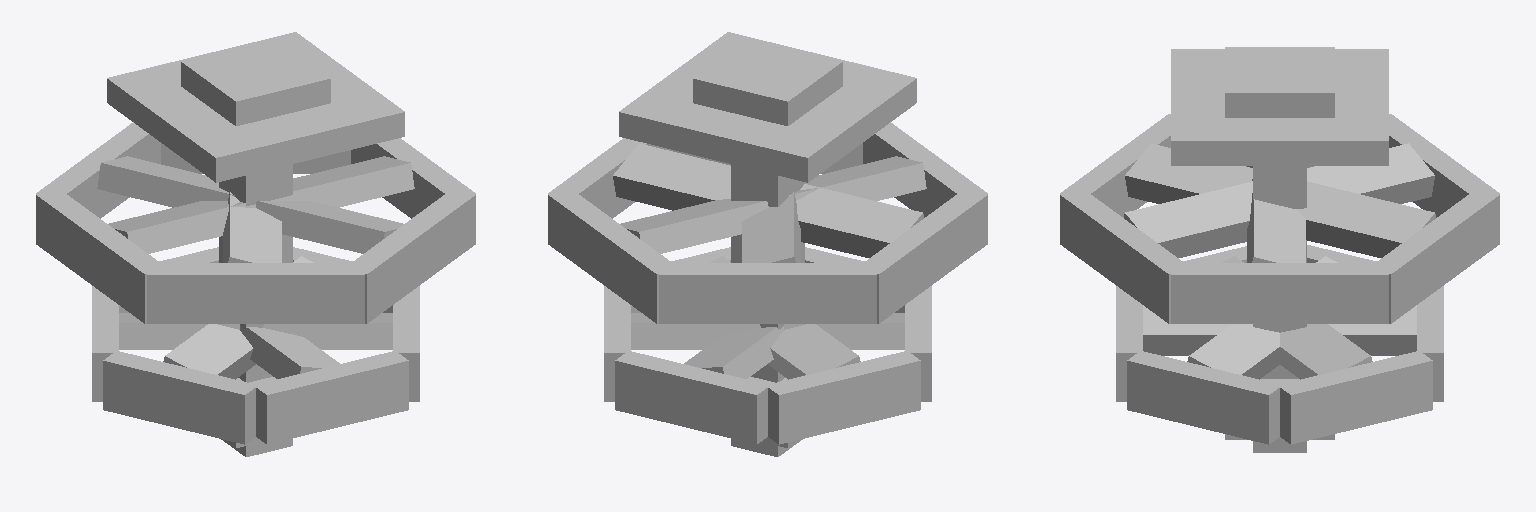
File: small.obj
The picture shows the model from 3 angles: view 1: azimuth 30°, elevation 25°; view 2: azimuth 150°, elevation 25°; view 3: azimuth 270°, elevation 25°; orthographic projection.
Parts seen in each view (by area): view 1: SUPPORT, SHIELD_A3_SPINS, SHIELD_B4_SPINS, SHIELD_B1_SPINS, PLUG, BLADE_A2_SPINS, BLADE_A3_SPINS, SHIELD_A5_SPINS, SHIELD_A4_SPINS, BLADE_B3_SPINS, SHIELD_A2_SPINS, SHIELD_A1_SPINS (+8 smaller); view 2: SUPPORT, SHIELD_A2_SPINS, BLADE_A3_SPINS, SHIELD_B2_SPINS, SHIELD_B3_SPINS, PLUG, SHIELD_A5_SPINS, BLADE_A1_SPINS, SHIELD_A6_SPINS, BLADE_B2_SPINS, SHIELD_A3_SPINS, BLADE_B3_SPINS (+8 smaller); view 3: SUPPORT, SHIELD_A1_SPINS, BLADE_A1_SPINS, BLADE_A2_SPINS, SHIELD_B5_SPINS, SHIELD_B6_SPINS, SHIELD_A4_SPINS, SHIELD_A6_SPINS, PLUG, BLADE_B1_SPINS, BLADE_B2_SPINS, BLADE_B3_SPINS (+7 smaller).
Part boxes in pixels (left/top/right/bottom): SUPPORT: left=107, top=32, right=404, bottom=182; SHIELD_A3_SPINS: left=147, top=263, right=364, bottom=323; SHIELD_B4_SPINS: left=254, top=351, right=408, bottom=444; SHIELD_B1_SPINS: left=103, top=351, right=255, bottom=444; PLUG: left=181, top=39, right=330, bottom=125; BLADE_A2_SPINS: left=97, top=156, right=403, bottom=253; BLADE_A3_SPINS: left=108, top=156, right=414, bottom=253; SHIELD_A5_SPINS: left=36, top=189, right=167, bottom=323; SHIELD_A4_SPINS: left=346, top=189, right=475, bottom=323; BLADE_B3_SPINS: left=119, top=313, right=392, bottom=349; SHIELD_A2_SPINS: left=36, top=122, right=160, bottom=218; SHIELD_A1_SPINS: left=351, top=138, right=475, bottom=218; SUPPORT: left=619, top=32, right=916, bottom=182; SHIELD_A2_SPINS: left=659, top=263, right=876, bottom=323; BLADE_A3_SPINS: left=613, top=143, right=923, bottom=257; SHIELD_B2_SPINS: left=615, top=351, right=769, bottom=444; SHIELD_B3_SPINS: left=768, top=351, right=920, bottom=444; PLUG: left=693, top=39, right=842, bottom=125; SHIELD_A5_SPINS: left=856, top=189, right=987, bottom=323; BLADE_A1_SPINS: left=620, top=156, right=926, bottom=253; SHIELD_A6_SPINS: left=548, top=189, right=671, bottom=323; BLADE_B2_SPINS: left=631, top=313, right=904, bottom=349; SHIELD_A3_SPINS: left=863, top=122, right=987, bottom=217; BLADE_B3_SPINS: left=710, top=256, right=860, bottom=379; SUPPORT: left=1171, top=49, right=1388, bottom=165; SHIELD_A1_SPINS: left=1171, top=263, right=1388, bottom=323; BLADE_A1_SPINS: left=1125, top=143, right=1435, bottom=257; BLADE_A2_SPINS: left=1124, top=143, right=1434, bottom=257; SHIELD_B5_SPINS: left=1278, top=351, right=1432, bottom=444; SHIELD_B6_SPINS: left=1127, top=351, right=1279, bottom=444; SHIELD_A4_SPINS: left=1060, top=190, right=1191, bottom=323; SHIELD_A6_SPINS: left=1368, top=191, right=1499, bottom=323; PLUG: left=1225, top=47, right=1334, bottom=117; BLADE_B1_SPINS: left=1143, top=305, right=1416, bottom=355; BLADE_B2_SPINS: left=1222, top=256, right=1372, bottom=379; BLADE_B3_SPINS: left=1187, top=256, right=1337, bottom=379.
Size of the model in its own units: 0.875 by 0.9375 by 1.01.